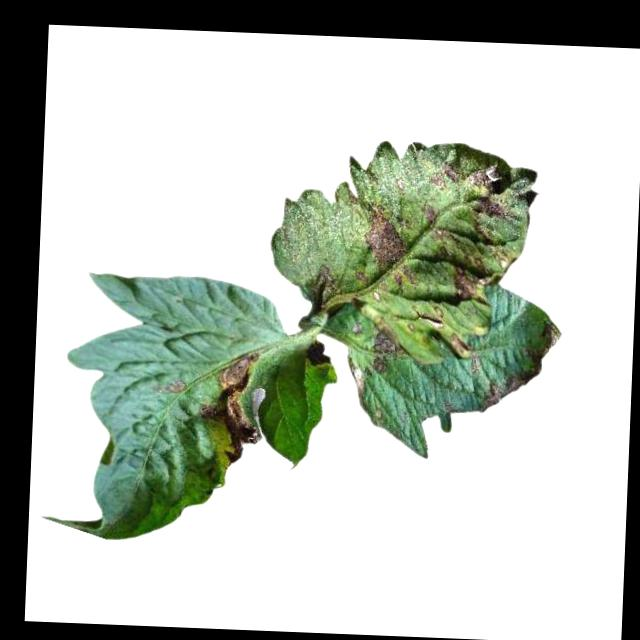Early_blight: (195, 346, 264, 466), (360, 201, 420, 286), (462, 160, 513, 240), (442, 248, 494, 303), (479, 370, 523, 413), (370, 323, 404, 373), (307, 264, 337, 308), (433, 159, 459, 191), (152, 379, 188, 394)
